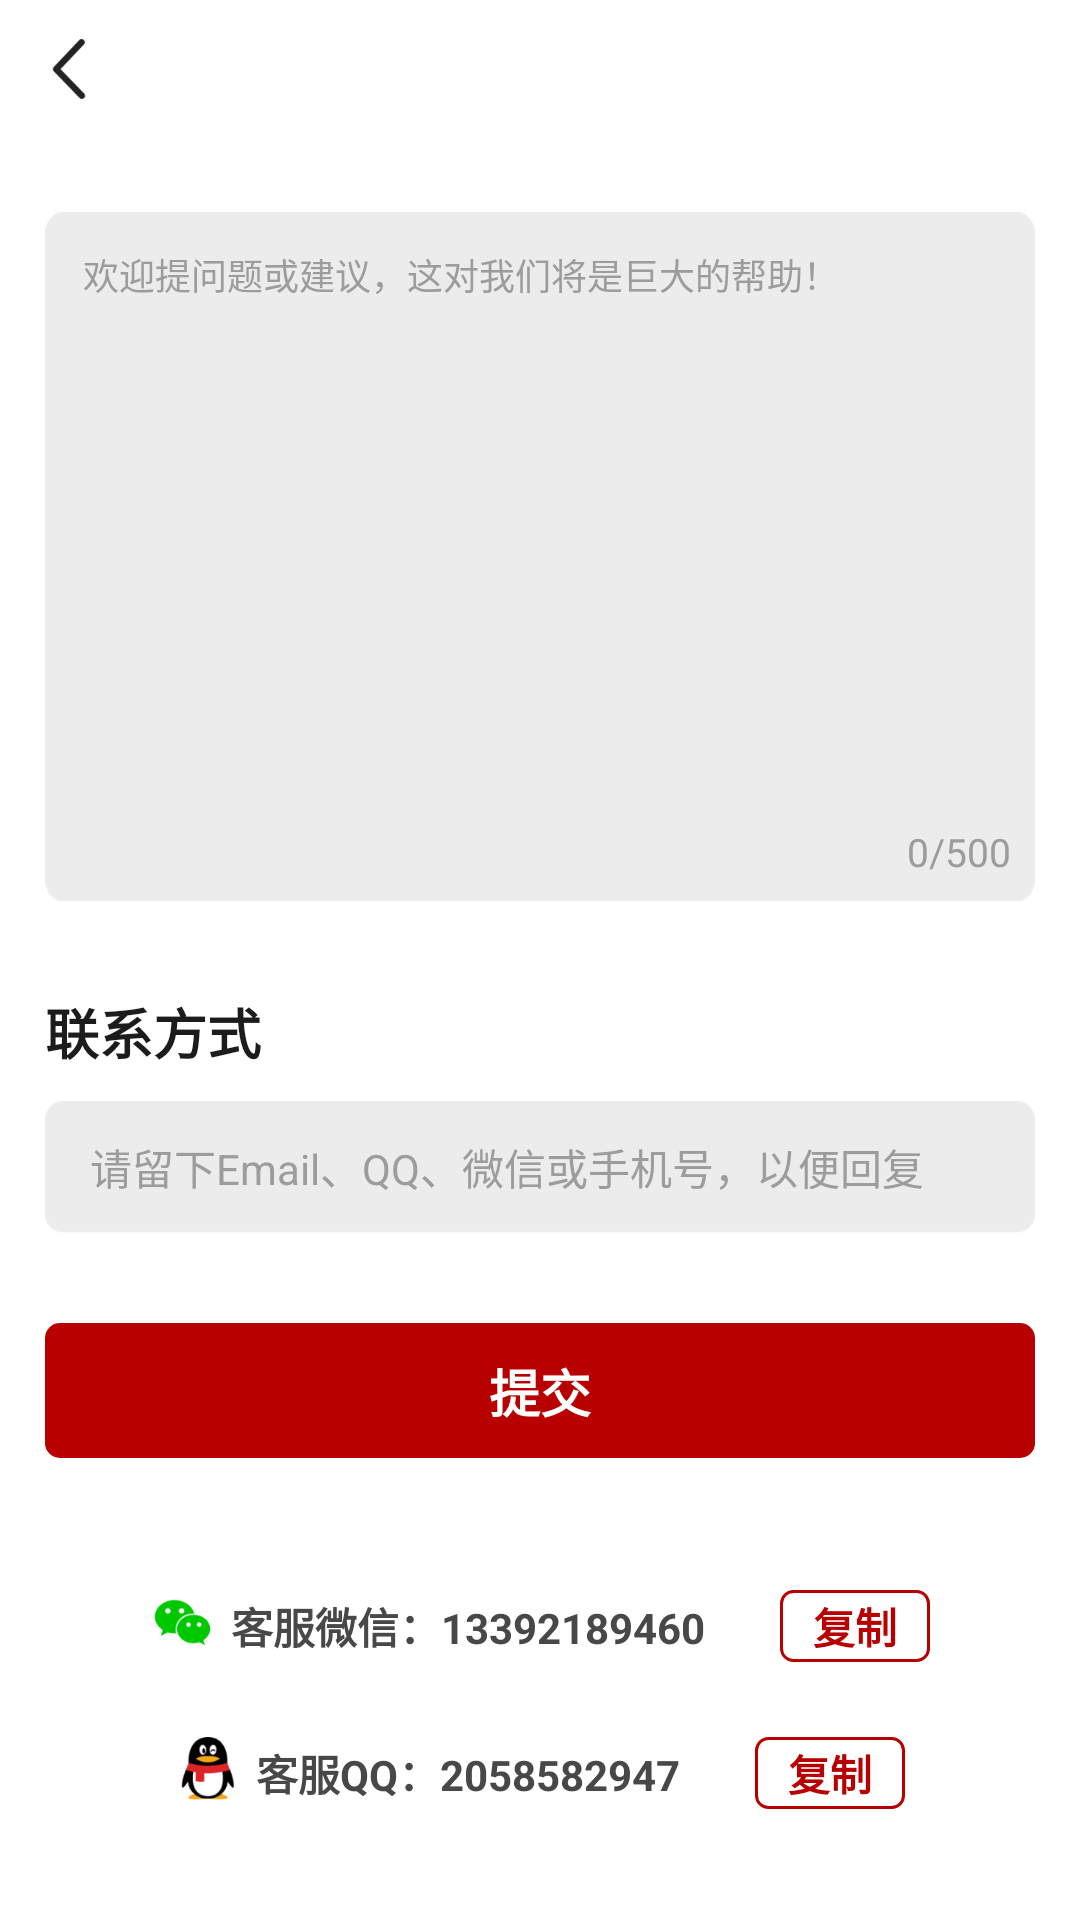

Locate icon controls on the screen. Image size 1080w x 1920h, boxes as (x1, y1, x2, y2).
arrow left: (52, 39, 86, 99)
